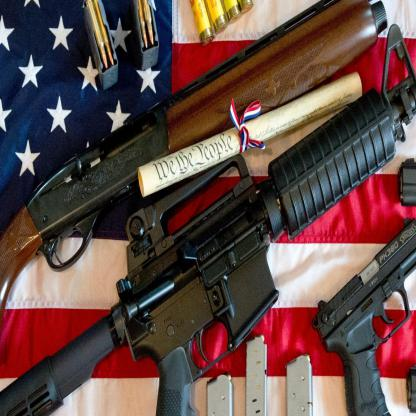gun: (0, 0, 415, 415), (308, 215, 416, 415)
